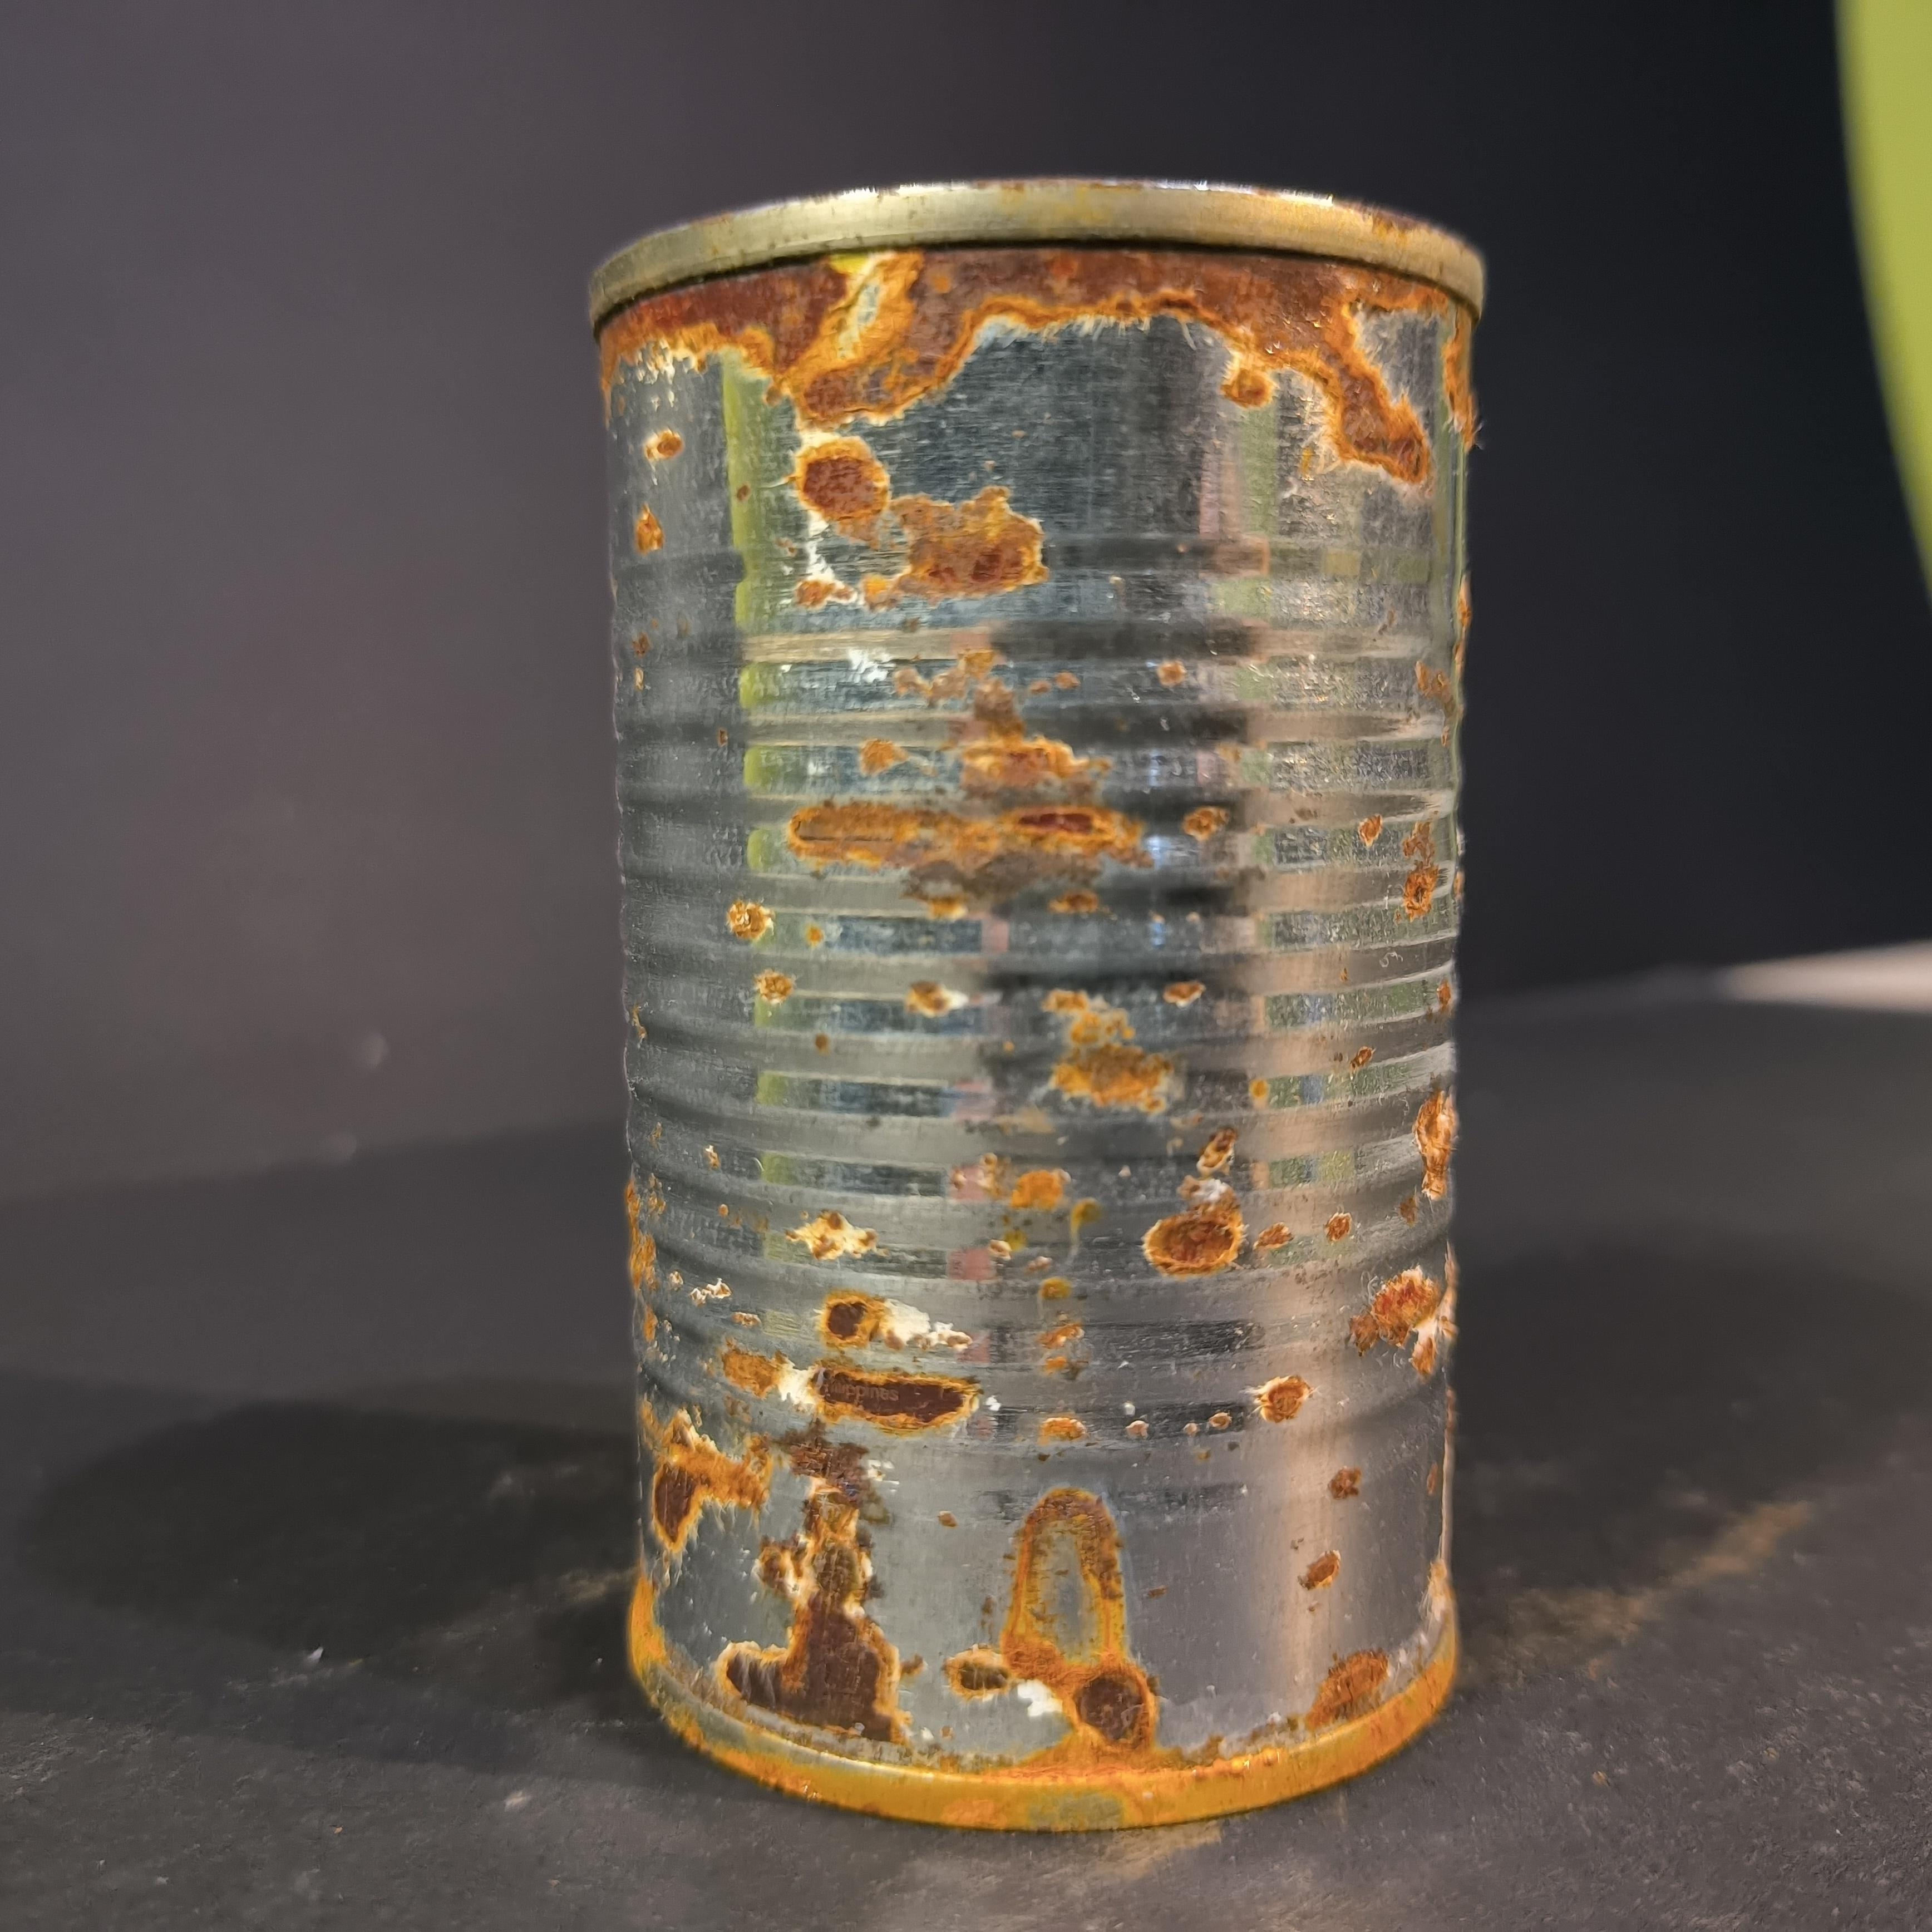Rusted: (559, 159, 1497, 1813)
